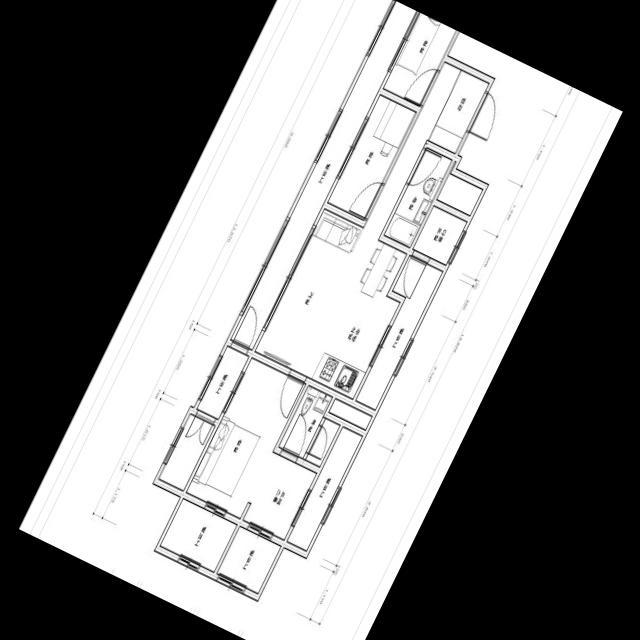background: (18, 0, 622, 640)
space_balconi: (230, 0, 416, 349), (355, 256, 441, 409), (287, 427, 361, 550), (159, 499, 236, 571), (216, 527, 280, 593), (196, 346, 247, 419)
space_bedroom: (186, 358, 304, 518), (327, 95, 415, 219), (382, 12, 455, 105)
space_dressroom: (242, 454, 315, 539)
space_front: (428, 70, 488, 153)
space_kitchen: (310, 240, 405, 399)
space_living_room: (254, 62, 460, 378)
space_other: (158, 414, 213, 490), (412, 205, 466, 264), (436, 162, 482, 215), (328, 399, 371, 429)
space_toilet: (383, 148, 451, 247), (278, 386, 339, 466)
